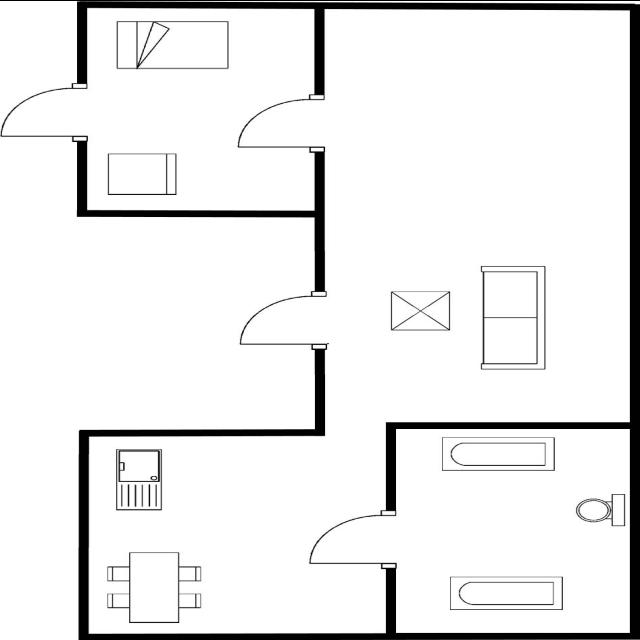bed: (112, 18, 232, 72)
coffee_table: (384, 288, 456, 334)
dining_table: (102, 549, 208, 625)
large_sink: (571, 490, 628, 530)
large_sofa: (478, 262, 548, 374)
sink: (111, 446, 166, 512)
small_sofa: (102, 150, 182, 198)
tub: (446, 573, 566, 614), (437, 433, 559, 473)
